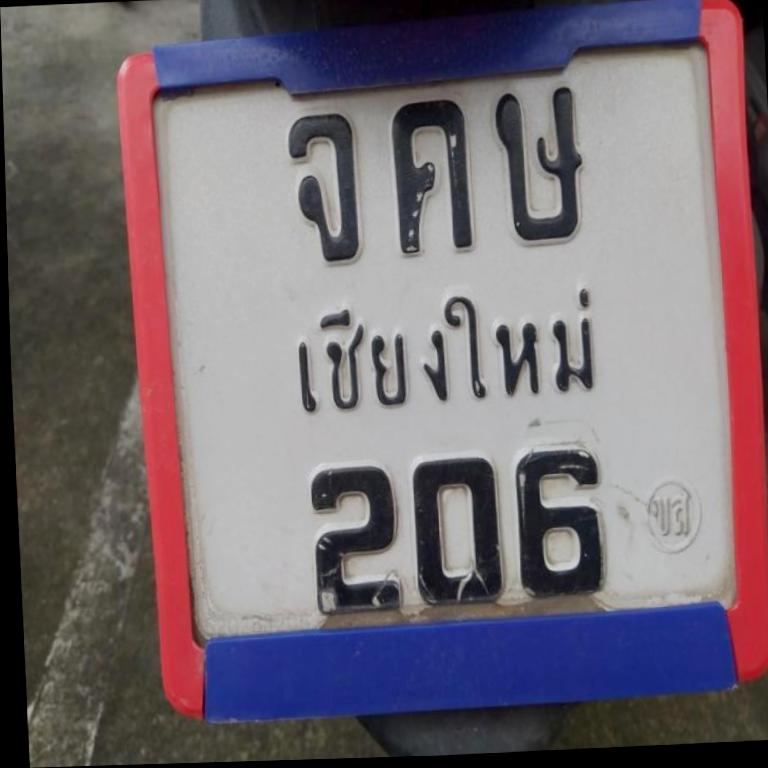license plate: (100, 0, 768, 726)
